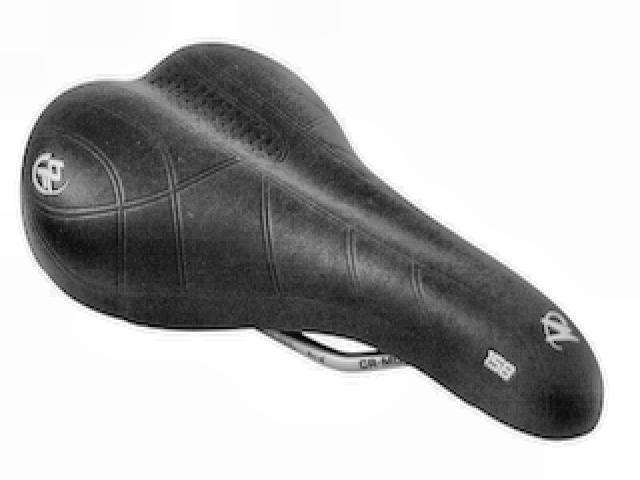saddle: (15, 39, 607, 442)
